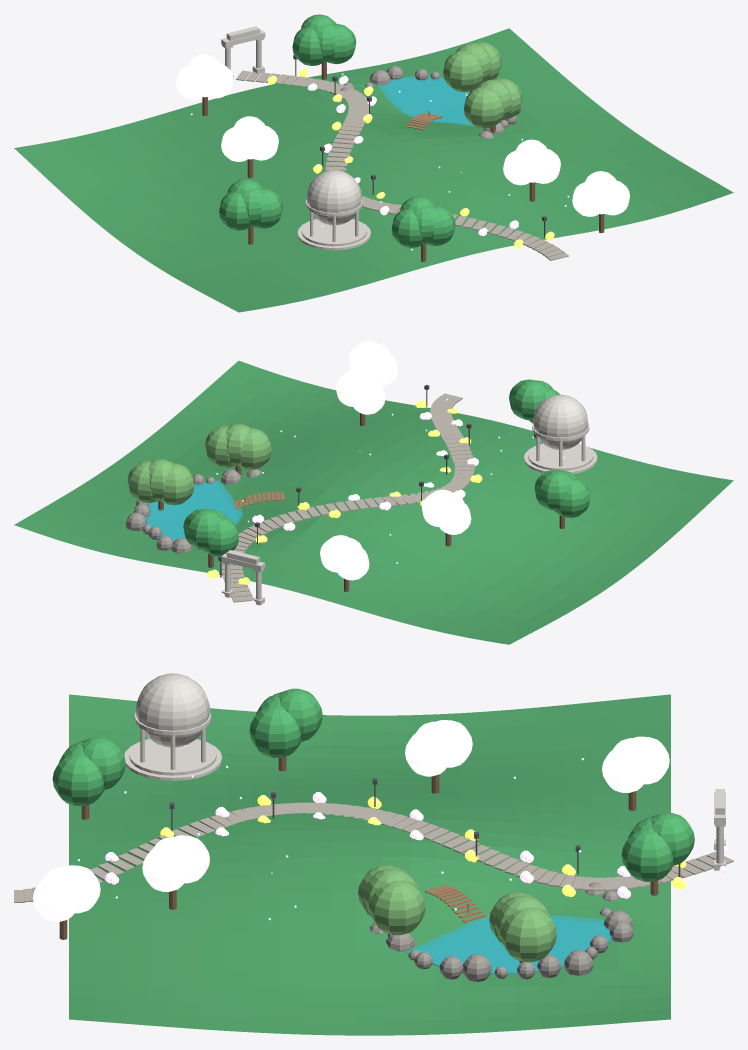
File: dynamic_field_life.glb
The picture shows the model from 3 angles, top to bottom: view 1: azimuth 30°, elevation 25°; view 2: azimuth 150°, elevation 25°; view 3: azimuth 270°, elevation 25°; orthographic projection. The views are drawn at different scales.
Parts seen in each view (by area): view 1: Meadow_Terrain, Sanctuary_SakuraCanopies, Sanctuary_OakCanopies, Sanctuary_FlagstonePath, Sanctuary_WillowCanopies, Sanctuary_RotundaGazebo, Sanctuary_PondWater, Sanctuary_RiverBoulders, Sanctuary_EntranceArch, Sanctuary_TreeTrunks, Sanctuary_MarigoldBeds, Sanctuary_LavenderBeds; view 2: Meadow_Terrain, Sanctuary_SakuraCanopies, Sanctuary_OakCanopies, Sanctuary_WillowCanopies, Sanctuary_FlagstonePath, Sanctuary_RotundaGazebo, Sanctuary_PondWater, Sanctuary_RiverBoulders, Sanctuary_EntranceArch, Sanctuary_MarigoldBeds, Sanctuary_LavenderBeds, Sanctuary_TreeTrunks; view 3: Meadow_Terrain, Sanctuary_SakuraCanopies, Sanctuary_OakCanopies, Sanctuary_FlagstonePath, Sanctuary_RotundaGazebo, Sanctuary_WillowCanopies, Sanctuary_RiverBoulders, Sanctuary_PondWater, Sanctuary_LavenderBeds, Sanctuary_MarigoldBeds, Sanctuary_TreeTrunks, Sanctuary_WoodBridge (+1 smaller).
Part boxes in pixels (left/top/right/bottom): Meadow_Terrain: left=14, top=28, right=733, bottom=312; Sanctuary_SakuraCanopies: left=176, top=54, right=629, bottom=216; Sanctuary_OakCanopies: left=219, top=14, right=455, bottom=247; Sanctuary_FlagstonePath: left=236, top=70, right=568, bottom=260; Sanctuary_WillowCanopies: left=443, top=42, right=522, bottom=128; Sanctuary_RotundaGazebo: left=297, top=170, right=370, bottom=250; Sanctuary_PondWater: left=378, top=76, right=501, bottom=125; Sanctuary_RiverBoulders: left=332, top=65, right=521, bottom=138; Sanctuary_EntranceArch: left=221, top=26, right=265, bottom=79; Sanctuary_TreeTrunks: left=202, top=62, right=604, bottom=261; Sanctuary_MarigoldBeds: left=267, top=68, right=554, bottom=248; Sanctuary_LavenderBeds: left=259, top=73, right=518, bottom=235; Meadow_Terrain: left=14, top=360, right=733, bottom=644; Sanctuary_SakuraCanopies: left=320, top=341, right=471, bottom=580; Sanctuary_OakCanopies: left=183, top=379, right=589, bottom=556; Sanctuary_WillowCanopies: left=127, top=424, right=271, bottom=505; Sanctuary_FlagstonePath: left=221, top=393, right=474, bottom=602; Sanctuary_RotundaGazebo: left=524, top=394, right=597, bottom=473; Sanctuary_PondWater: left=143, top=480, right=242, bottom=546; Sanctuary_RiverBoulders: left=126, top=469, right=267, bottom=553; Sanctuary_EntranceArch: left=221, top=550, right=265, bottom=605; Sanctuary_MarigoldBeds: left=207, top=400, right=482, bottom=584; Sanctuary_LavenderBeds: left=220, top=412, right=478, bottom=606; Sanctuary_TreeTrunks: left=158, top=413, right=564, bottom=591; Meadow_Terrain: left=69, top=694, right=670, bottom=1035; Sanctuary_SakuraCanopies: left=33, top=720, right=669, bottom=921; Sanctuary_OakCanopies: left=52, top=688, right=694, bottom=881; Sanctuary_FlagstonePath: left=14, top=802, right=733, bottom=902; Sanctuary_RotundaGazebo: left=124, top=673, right=222, bottom=780; Sanctuary_WillowCanopies: left=358, top=865, right=556, bottom=962; Sanctuary_RiverBoulders: left=369, top=871, right=633, bottom=981; Sanctuary_PondWater: left=405, top=915, right=611, bottom=973; Sanctuary_LavenderBeds: left=105, top=792, right=728, bottom=898; Sanctuary_MarigoldBeds: left=160, top=795, right=686, bottom=896; Sanctuary_TreeTrunks: left=59, top=756, right=658, bottom=963; Sanctuary_WoodBridge: left=425, top=884, right=486, bottom=922.
Bounding box in the file's own units: 70 × 12.99 × 65.79.
